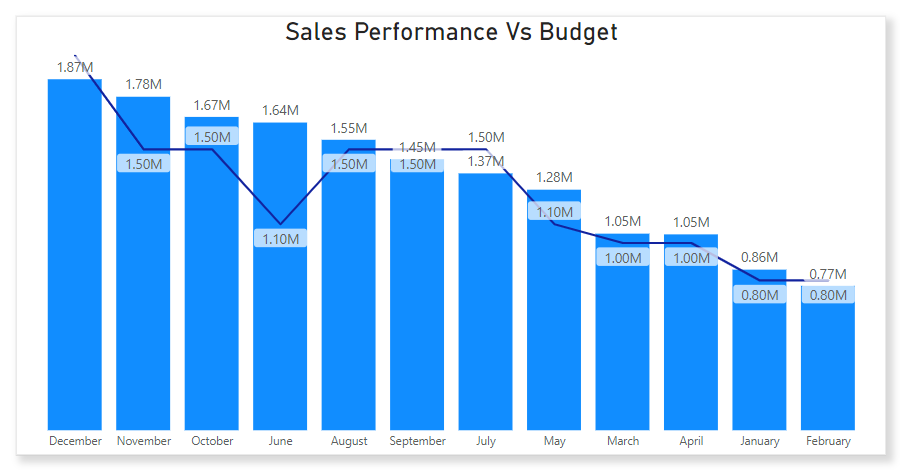

The page's visual inventory and layout, read from the dashboard file:
{"tool":"powerbi","page":{"name":"Budget","canvas":[1280,720],"ordinal":4},"visuals":[{"type":"lineClusteredColumnComboChart","title":"Sales Performance Vs Budget","fields":{"Y2":["Sum(budget.Budget)"],"Category":["budget.Month"],"Y":["InternetSales.Sales_2013"]},"box":[42.6,45.4,1196.1,603.6],"z":0}]}

Visuals, with their boxes on the page's 1280x720 design canvas (x1, y1, x2, y2). These are canvas units, not pixel positions in the 900x470 screenshot, which may show the page scaled, cropped or inside an application window:
"Sales Performance Vs Budget" lineClusteredColumnComboChart: 43,45,1239,649
